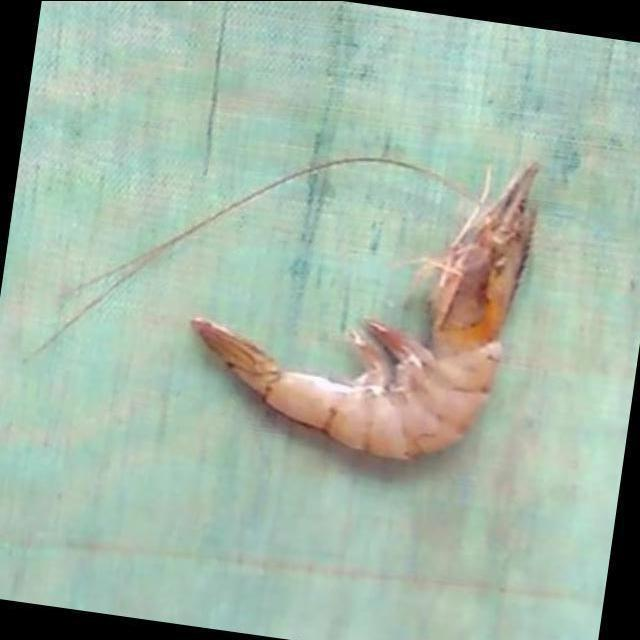shrimp: (193, 165, 538, 460)
